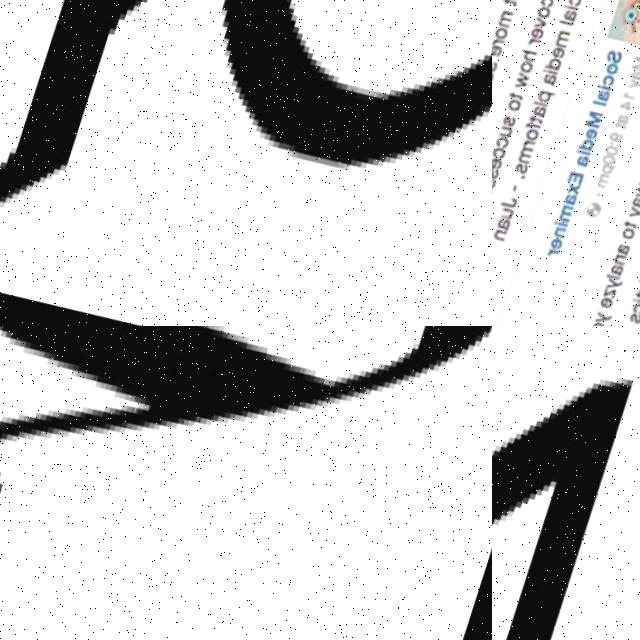0: (617, 104, 633, 117)
5: (0, 0, 492, 326), (608, 134, 624, 148)
Y: (0, 326, 492, 640)
Z: (492, 326, 640, 640)
